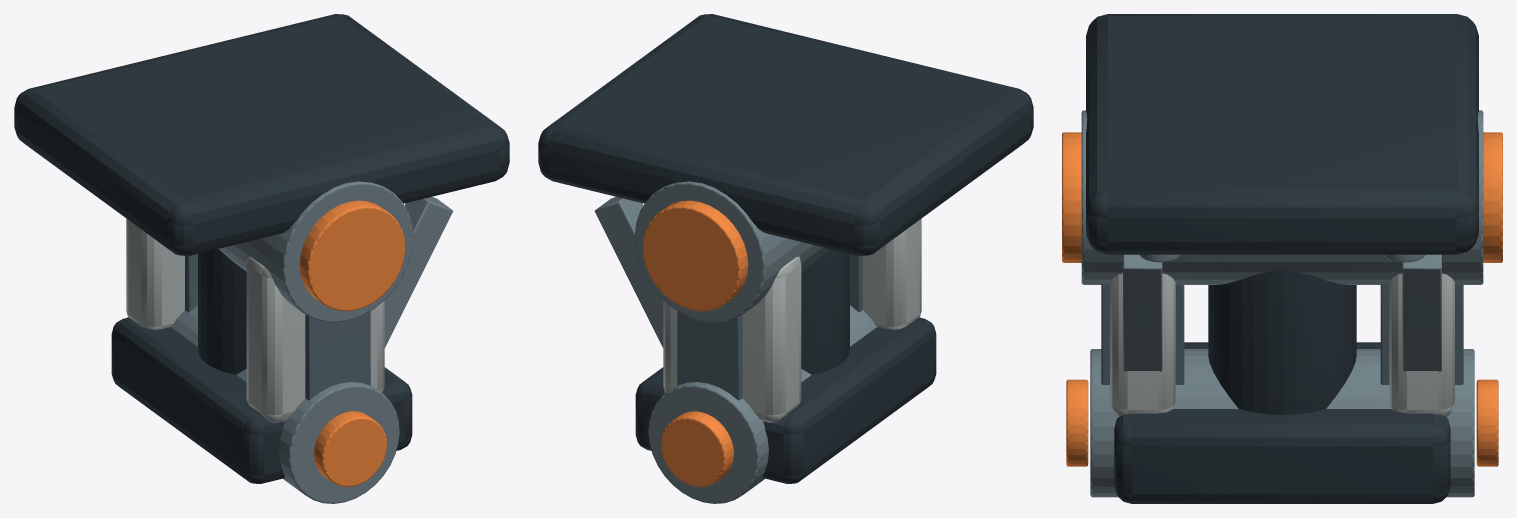
File: SM_Mech_GearUpper.fbx
3 views of the same model, side by side, from view 1: azimuth 30°, elevation 25°; view 2: azimuth 150°, elevation 25°; view 3: azimuth 270°, elevation 25° (orthographic). The views are drawn at different scales.
Parts seen in each view (by area): view 1: SM_Mech_GearUpper; view 2: SM_Mech_GearUpper; view 3: SM_Mech_GearUpper.
Part boxes in pixels (left/top/right/bottom): SM_Mech_GearUpper: left=14, top=14, right=509, bottom=503; SM_Mech_GearUpper: left=538, top=14, right=1033, bottom=503; SM_Mech_GearUpper: left=1062, top=14, right=1502, bottom=503.
Bounding box in the file's own units: 104 × 101 × 98.
